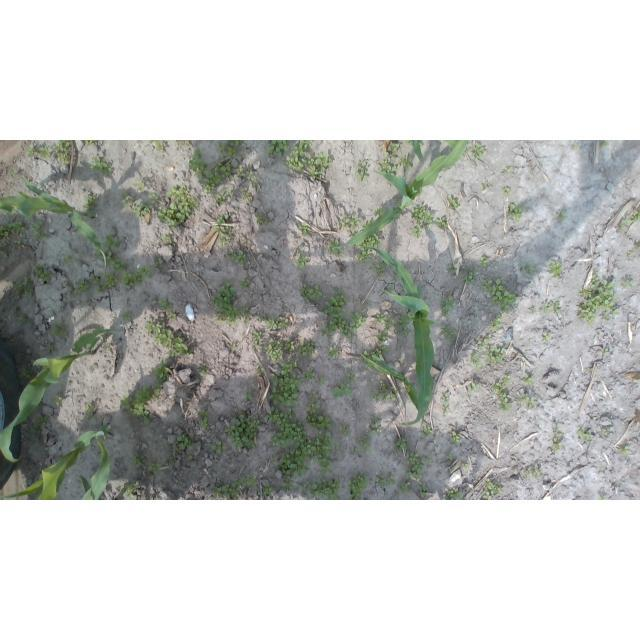Maize: (0, 327, 120, 463), (329, 140, 471, 250), (364, 246, 438, 426), (0, 180, 108, 269), (1, 424, 112, 500), (358, 348, 427, 430), (77, 432, 112, 501), (392, 141, 459, 164)
Weeds: (577, 269, 620, 326), (157, 185, 200, 232), (145, 318, 194, 358), (265, 406, 308, 449), (269, 357, 302, 408), (480, 278, 520, 315), (277, 449, 312, 491), (224, 412, 261, 451), (300, 431, 332, 474), (210, 280, 241, 324), (93, 234, 127, 274), (121, 385, 150, 424), (202, 162, 235, 194), (306, 391, 333, 429), (283, 140, 312, 172), (408, 203, 434, 238), (302, 478, 341, 500), (379, 140, 401, 177), (305, 151, 332, 181), (120, 265, 152, 290), (323, 289, 349, 319), (213, 214, 234, 247), (189, 147, 208, 182), (369, 381, 399, 402), (406, 451, 425, 481), (348, 474, 369, 500), (52, 141, 73, 166), (357, 231, 382, 252), (219, 141, 246, 160), (618, 210, 640, 233), (94, 273, 119, 293), (481, 478, 503, 500), (12, 276, 34, 298), (338, 212, 362, 232), (263, 339, 283, 363), (550, 424, 566, 453), (29, 220, 51, 241), (90, 156, 113, 176), (213, 483, 240, 500), (360, 349, 380, 370), (29, 417, 49, 438), (172, 434, 193, 454), (485, 345, 507, 364), (266, 141, 290, 158), (32, 262, 52, 282), (26, 144, 51, 160), (353, 159, 370, 182), (154, 359, 170, 383), (332, 378, 353, 396), (349, 312, 366, 334), (300, 284, 322, 301), (82, 195, 98, 218), (320, 319, 337, 340), (234, 474, 256, 490), (397, 312, 411, 337), (507, 203, 525, 222), (119, 482, 138, 500), (461, 265, 478, 285), (338, 318, 353, 340), (197, 409, 212, 431), (297, 339, 315, 357), (493, 375, 511, 393), (266, 316, 289, 330), (227, 249, 248, 264), (375, 333, 389, 355), (366, 417, 382, 436), (120, 193, 136, 212), (441, 297, 455, 318), (369, 259, 386, 276), (134, 200, 150, 218), (356, 434, 372, 452), (440, 324, 458, 340), (442, 488, 464, 501), (497, 393, 511, 413), (50, 322, 67, 338), (146, 458, 162, 475), (523, 465, 541, 480), (517, 394, 535, 409), (73, 279, 91, 294), (542, 299, 561, 313), (577, 426, 592, 443), (328, 238, 342, 256), (132, 451, 147, 467), (211, 441, 227, 456), (549, 260, 562, 278), (382, 317, 395, 335), (376, 476, 397, 487), (470, 352, 482, 371), (399, 156, 413, 172), (477, 334, 491, 350), (471, 142, 485, 158), (295, 253, 309, 269), (418, 483, 431, 500), (150, 140, 167, 153), (8, 221, 26, 233), (241, 304, 251, 325), (356, 251, 372, 264), (447, 258, 460, 274), (150, 384, 162, 401), (447, 196, 461, 210), (394, 438, 407, 453), (157, 297, 172, 310), (85, 404, 98, 419), (262, 483, 275, 498), (254, 213, 270, 225), (241, 187, 253, 203), (251, 331, 261, 350), (398, 481, 411, 495), (298, 222, 312, 235), (467, 381, 479, 396), (450, 431, 462, 446), (19, 368, 34, 380), (302, 368, 315, 381), (521, 262, 534, 275), (477, 256, 490, 269), (522, 373, 535, 386), (133, 179, 145, 193), (50, 394, 64, 406), (490, 315, 501, 330), (421, 425, 433, 438), (338, 424, 351, 436), (436, 216, 448, 228), (196, 364, 208, 376), (556, 211, 569, 222), (243, 388, 253, 402), (621, 279, 636, 288), (149, 192, 160, 204), (328, 346, 339, 358), (374, 205, 385, 217), (285, 338, 295, 351), (239, 278, 250, 289), (215, 192, 225, 204), (120, 310, 132, 320), (382, 285, 394, 295), (618, 446, 630, 456), (63, 253, 73, 265), (236, 164, 245, 177), (0, 223, 8, 237), (175, 141, 191, 148), (91, 274, 101, 285), (445, 450, 454, 462), (17, 315, 29, 324), (441, 392, 449, 405), (161, 235, 171, 245), (501, 186, 511, 196), (541, 331, 551, 341), (599, 140, 610, 149), (501, 166, 513, 174), (348, 372, 357, 382), (374, 314, 384, 323), (153, 258, 163, 267), (44, 343, 54, 352), (317, 377, 328, 385), (167, 311, 178, 319), (362, 220, 371, 229), (12, 240, 21, 249), (332, 443, 340, 453), (246, 170, 254, 180), (252, 179, 261, 187), (255, 368, 264, 376), (258, 314, 267, 322), (461, 464, 469, 473), (83, 141, 97, 146), (602, 428, 610, 436), (601, 348, 609, 356), (443, 406, 450, 415), (627, 251, 634, 260), (229, 343, 236, 352), (101, 333, 108, 342), (597, 494, 607, 500), (418, 140, 425, 148), (426, 455, 433, 463), (270, 455, 278, 462), (226, 189, 233, 197), (394, 198, 402, 205), (169, 456, 176, 464), (482, 182, 488, 191), (530, 306, 537, 313), (573, 143, 580, 150), (407, 140, 415, 146), (634, 242, 640, 250), (10, 169, 17, 175), (353, 448, 360, 454), (11, 307, 17, 314), (589, 368, 596, 373), (296, 245, 301, 251), (350, 233, 356, 238), (188, 455, 193, 461), (0, 251, 4, 257), (150, 497, 154, 500)
